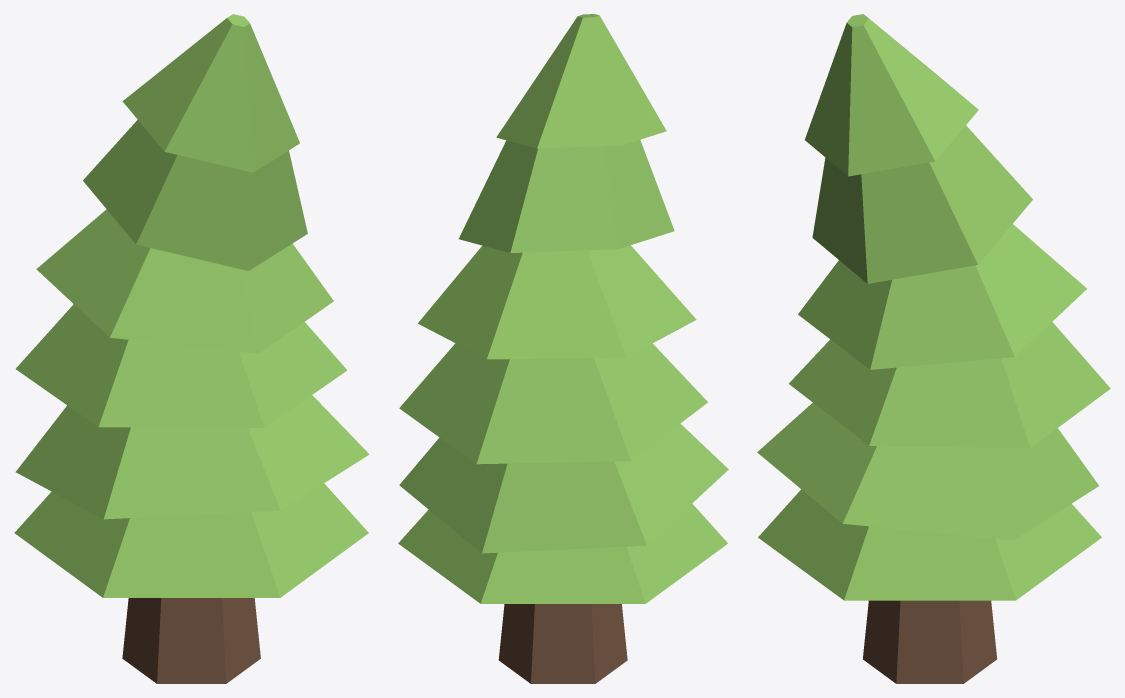
Rendered from Arbre 1.fbx.
3 renders of one model, left to right at view 1: azimuth 30°, elevation 25°; view 2: azimuth 150°, elevation 25°; view 3: azimuth 270°, elevation 25°, orthographic. The views are drawn at different scales.
Visible parts, largest first — view 1: Cylinder.003, Cylinder.002, Cylinder.004, Cylinder.005, Cylinder.006, Cylinder.007, Cylinder.008; view 2: Cylinder.004, Cylinder.003, Cylinder.005, Cylinder.006, Cylinder.002, Cylinder.007, Cylinder.008; view 3: Cylinder.003, Cylinder.004, Cylinder.005, Cylinder.006, Cylinder.002, Cylinder.007, Cylinder.008.
Part boxes in pixels (box(x1,y1,x2,y2)): Cylinder.003: box(15, 395, 369, 519); Cylinder.002: box(14, 483, 368, 597); Cylinder.004: box(16, 304, 347, 427); Cylinder.005: box(36, 209, 333, 353); Cylinder.006: box(83, 120, 307, 270); Cylinder.007: box(122, 14, 299, 172); Cylinder.008: box(122, 598, 260, 683); Cylinder.004: box(399, 343, 707, 464); Cylinder.003: box(399, 423, 728, 553); Cylinder.005: box(418, 245, 696, 359); Cylinder.006: box(459, 140, 674, 252); Cylinder.002: box(398, 503, 727, 603); Cylinder.007: box(496, 14, 666, 148); Cylinder.008: box(498, 604, 627, 683); Cylinder.003: box(757, 403, 1098, 540); Cylinder.004: box(789, 322, 1110, 448); Cylinder.005: box(798, 224, 1086, 369); Cylinder.006: box(812, 125, 1032, 283); Cylinder.002: box(758, 489, 1101, 600); Cylinder.007: box(805, 14, 978, 176); Cylinder.008: box(863, 600, 997, 683).
Size of the model in its own units: 7.54 by 18.02 by 8.95.
